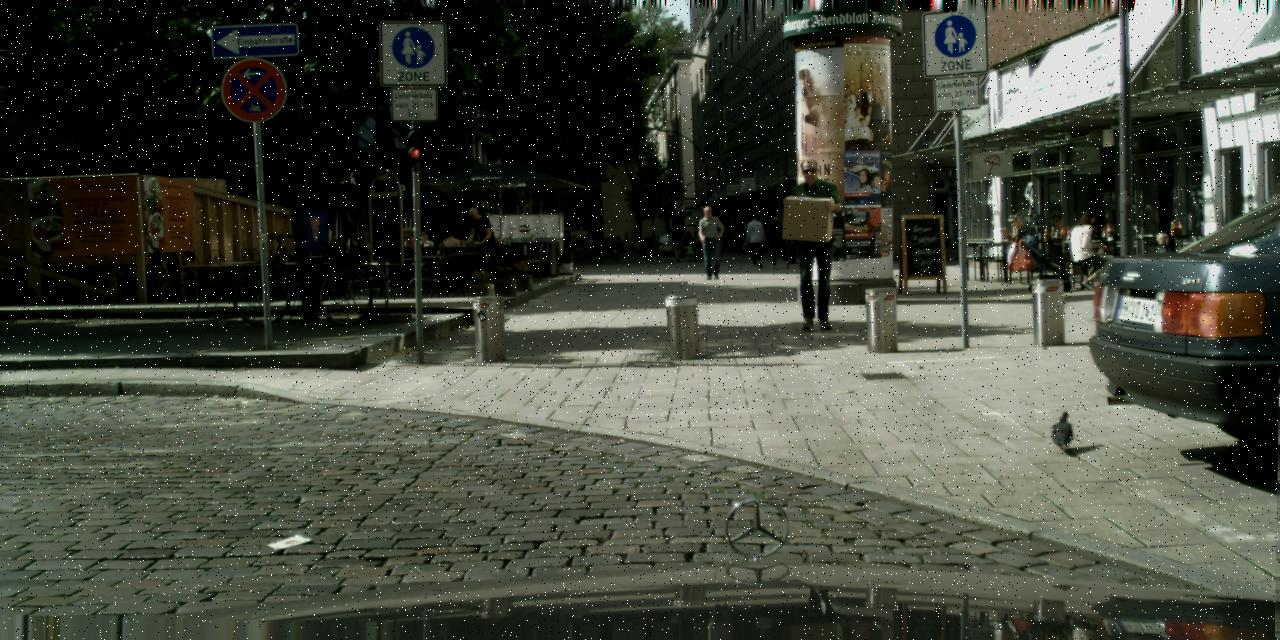ped: (778, 157, 849, 330), (460, 208, 490, 284), (696, 206, 725, 279), (744, 210, 767, 268), (767, 216, 787, 266), (781, 216, 800, 262), (690, 225, 704, 261), (342, 231, 368, 250), (670, 222, 684, 257), (683, 230, 693, 254), (403, 228, 414, 248), (422, 231, 434, 248), (686, 241, 693, 261)
